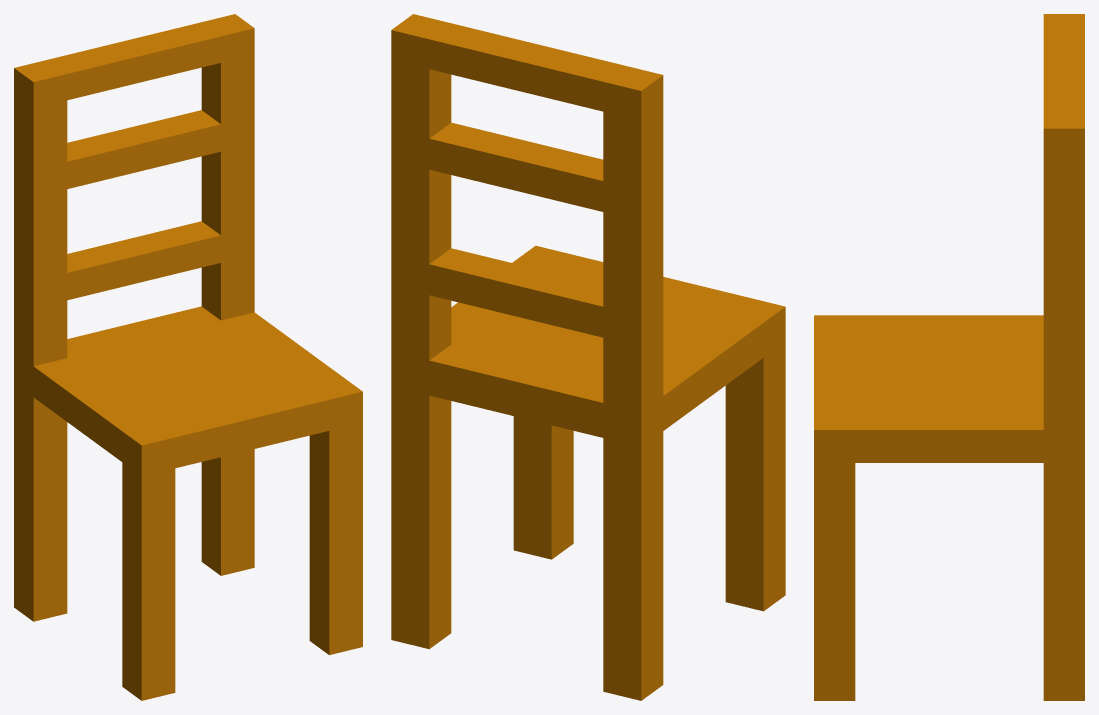
File: Chair_02.fbx
3 views of the same model, side by side, from view 1: azimuth 30°, elevation 25°; view 2: azimuth 150°, elevation 25°; view 3: azimuth 270°, elevation 25° (orthographic). The views are drawn at different scales.
Parts seen in each view (by area): view 1: Chair_02; view 2: Chair_02; view 3: Chair_02.
Boxes of the visible parts, bbox=[...] form: Chair_02: bbox=[14, 14, 362, 700]; Chair_02: bbox=[391, 14, 785, 700]; Chair_02: bbox=[814, 14, 1084, 700].
Bounding box in the file's own units: 52.89 × 123 × 52.89.
